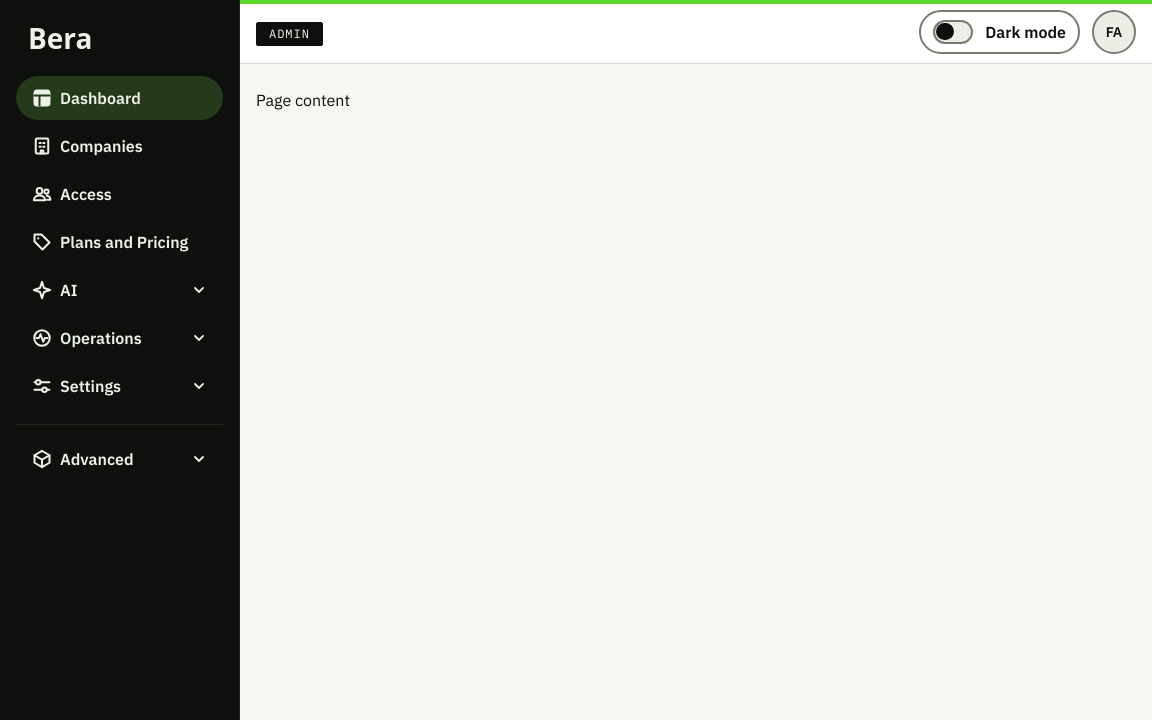
top bar › shows a clear Admin badge, the theme switch and the admin user menu with Log out
Expected: the switch labelled "Dark mode" is shown, x1=919 y1=10 x2=1080 y2=54
Click the button named "User menu" at (1114, 32), box x1=1092 y1=10 x2=1136 y2=54
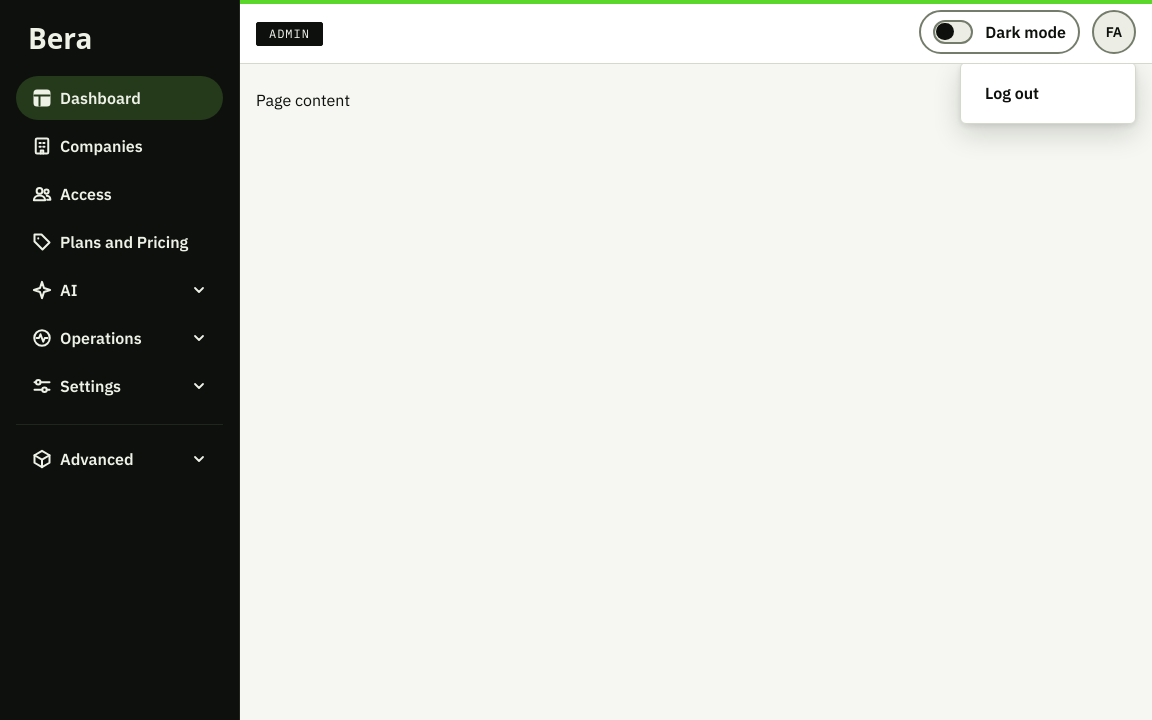
Expected: the menu items read "Log out", in this order, x1=985 y1=83 x2=1039 y2=103
